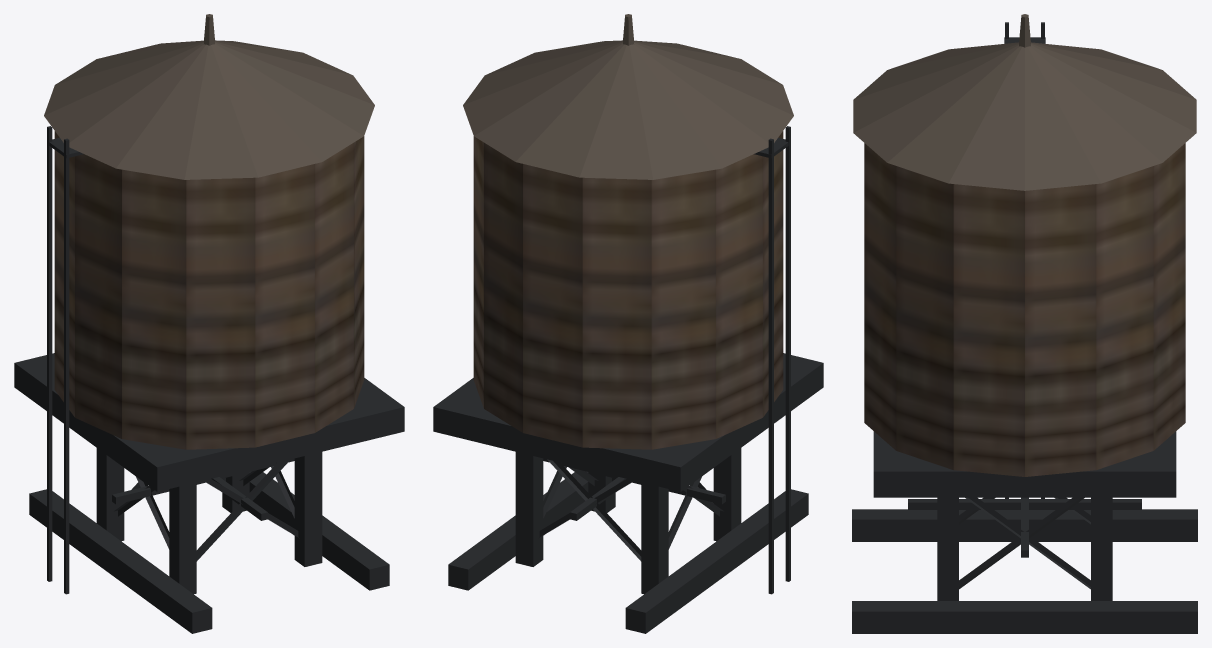
The model's file is nyc_water_tank.glb.
3 renders of one model, left to right at view 1: azimuth 30°, elevation 25°; view 2: azimuth 150°, elevation 25°; view 3: azimuth 270°, elevation 25°, orthographic. The views are drawn at different scales.
Visible parts, largest first — view 1: nyc_water_tank; view 2: nyc_water_tank; view 3: nyc_water_tank.
Part boxes in pixels (x1,y1,x2,y2): nyc_water_tank: (14,14,404,633); nyc_water_tank: (433,14,823,633); nyc_water_tank: (852,14,1197,633).
Bounding box in the file's own units: 4.41 × 7.6 × 4.2.
1 material, 1 textured.
